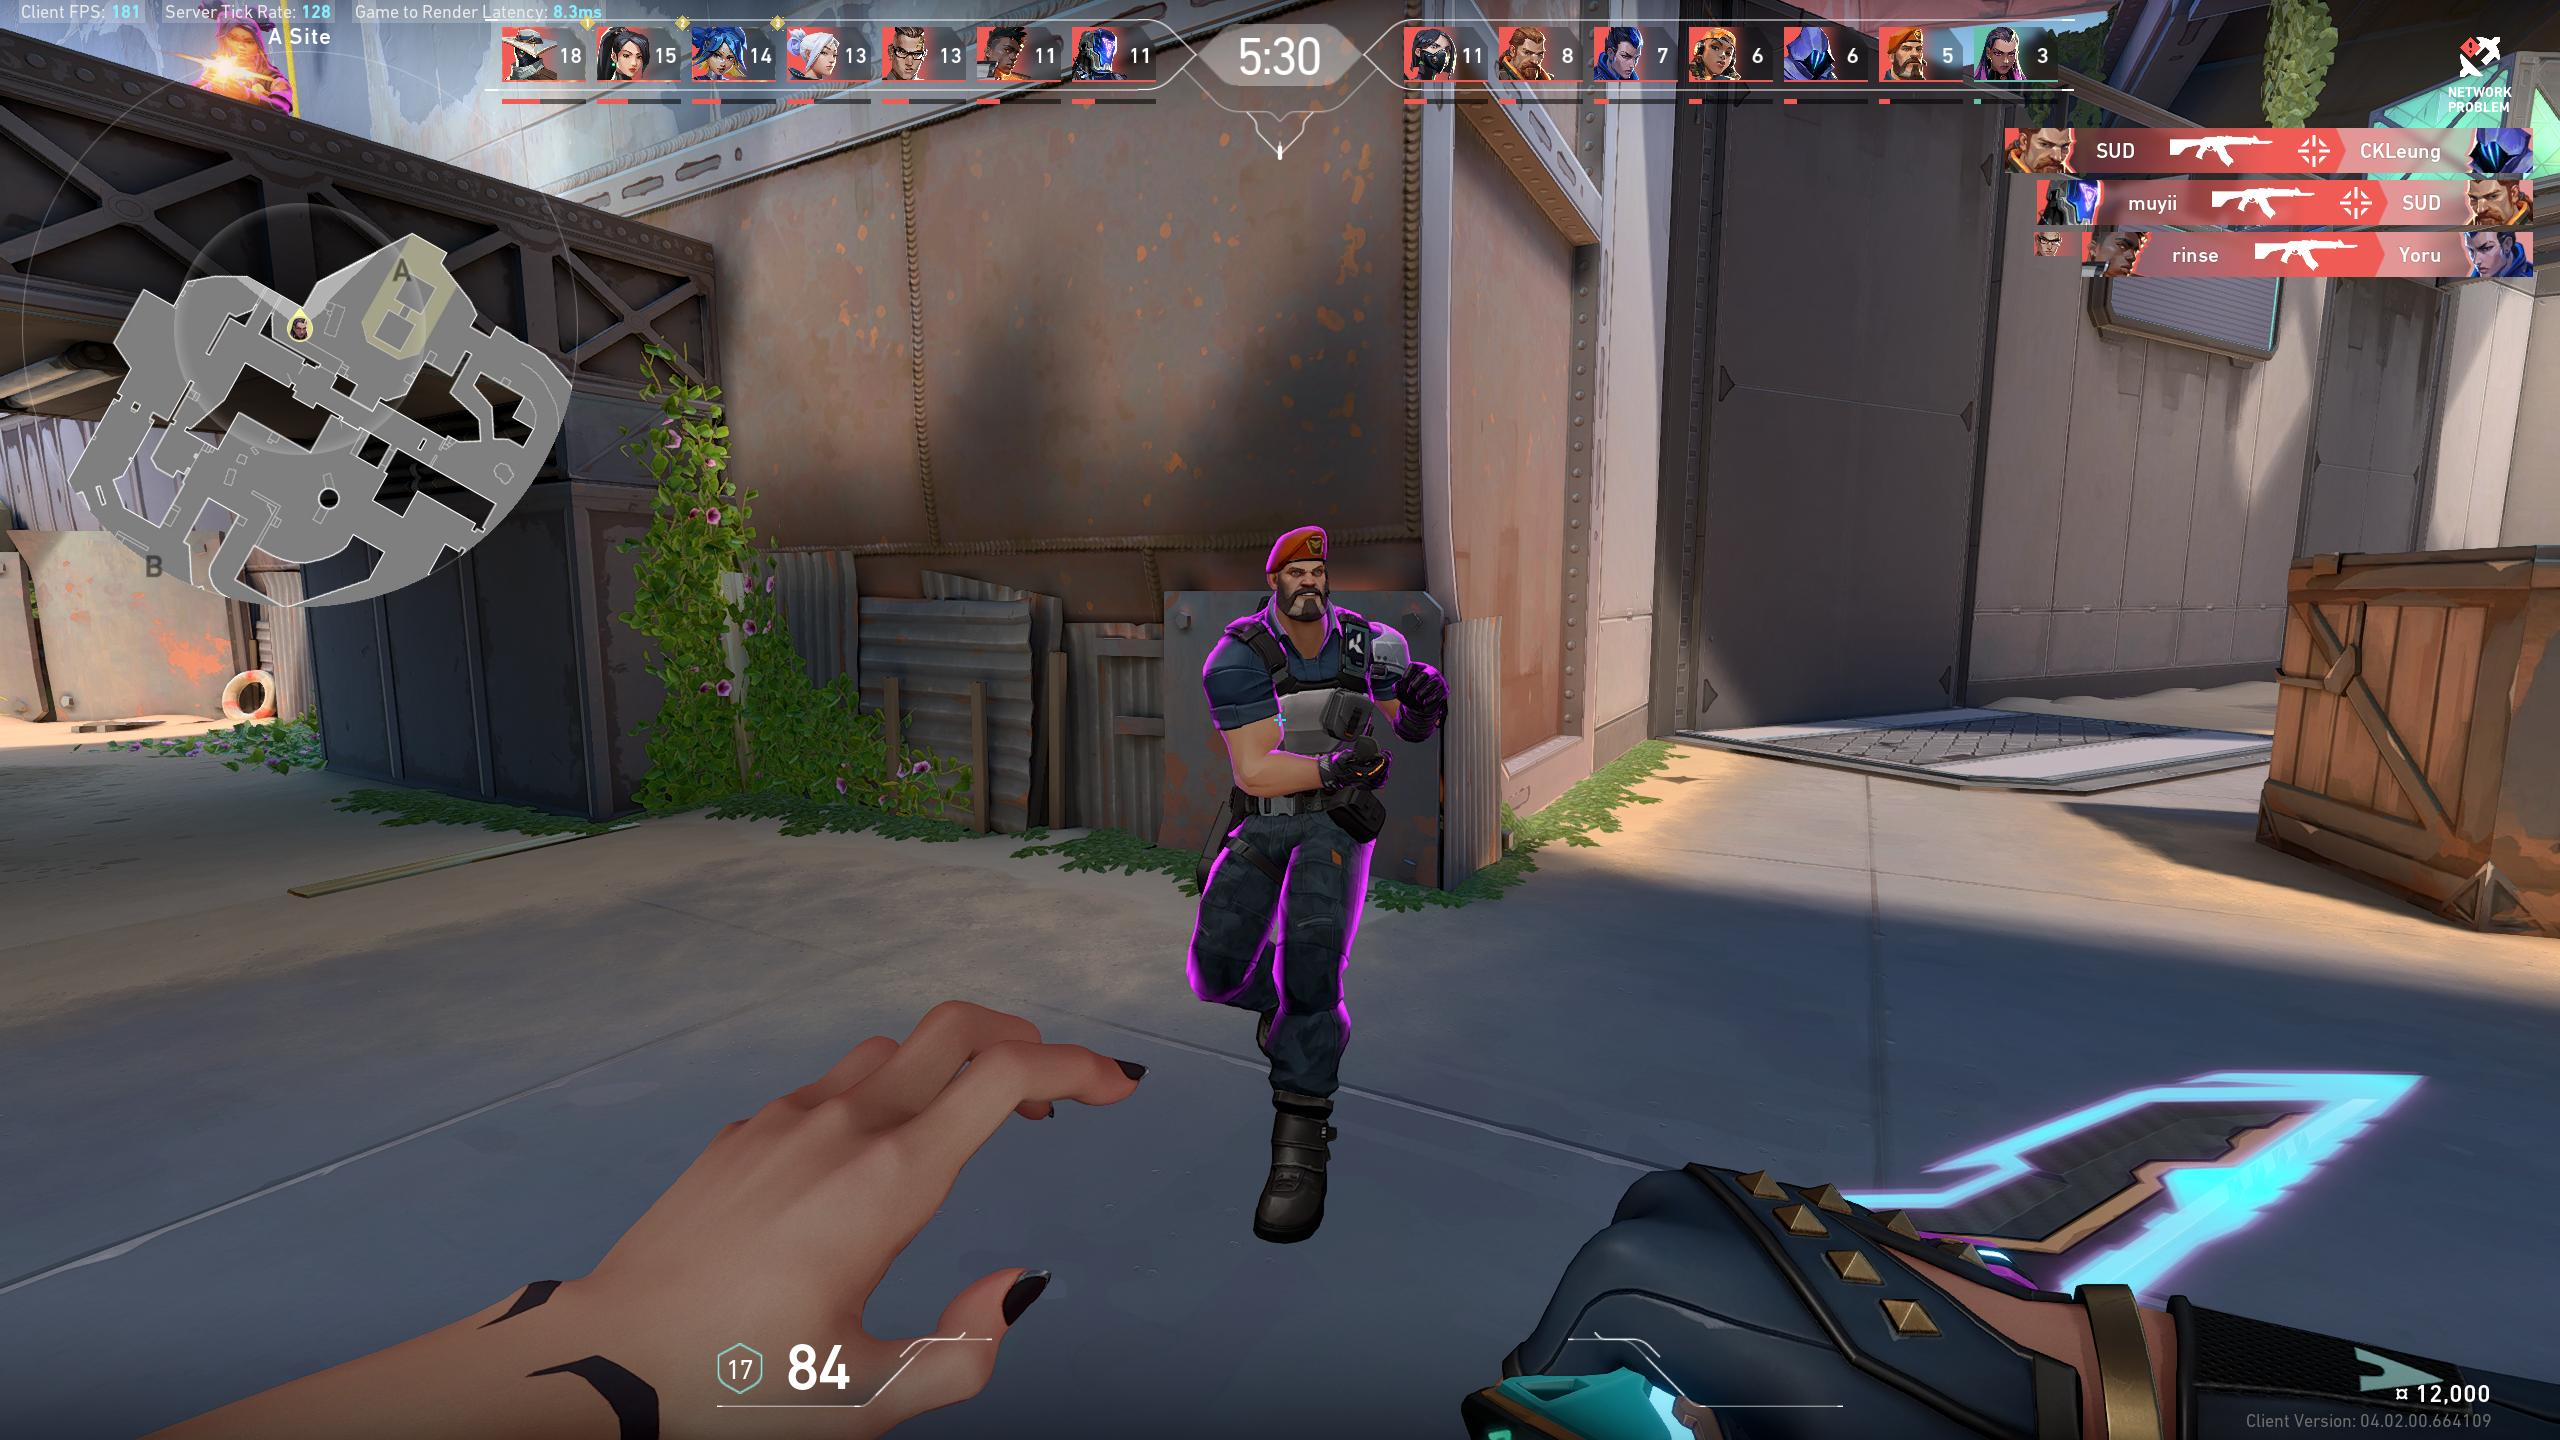enemyBody: (1264, 635, 1347, 846)
enemyHead: (1278, 543, 1326, 615)
